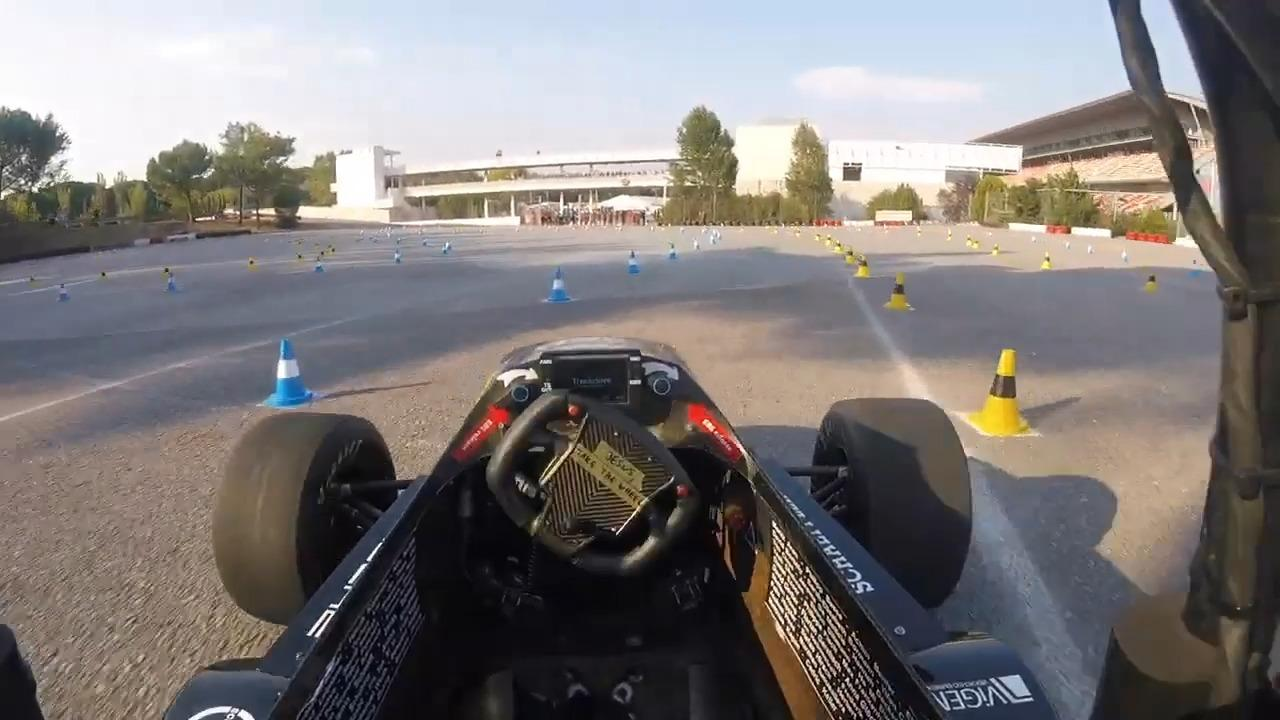blue_cone: (256, 335, 313, 407), (538, 265, 574, 305), (624, 249, 640, 276), (165, 274, 181, 296), (666, 239, 679, 264), (55, 281, 69, 301), (310, 255, 324, 272), (393, 249, 403, 266), (692, 240, 700, 254), (440, 242, 447, 257)
yellow_cone: (967, 349, 1033, 441), (887, 271, 910, 311), (854, 252, 871, 280), (1143, 272, 1160, 294), (1041, 252, 1054, 272), (846, 245, 855, 266), (834, 239, 845, 254), (248, 257, 256, 272), (992, 243, 1000, 256), (826, 234, 835, 245), (965, 233, 972, 246), (974, 239, 981, 250)
